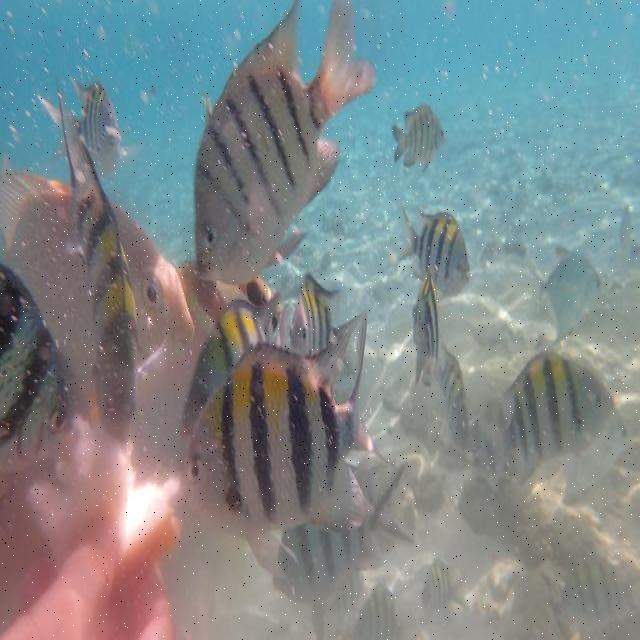fish: (183, 311, 396, 576), (195, 0, 376, 285), (0, 170, 195, 426), (59, 89, 139, 444), (276, 462, 416, 604), (0, 262, 90, 472), (475, 350, 616, 484), (183, 292, 285, 434), (38, 75, 122, 175), (398, 204, 469, 301), (528, 247, 602, 340), (290, 273, 342, 353), (392, 105, 446, 173), (436, 345, 468, 440), (414, 275, 439, 383)
